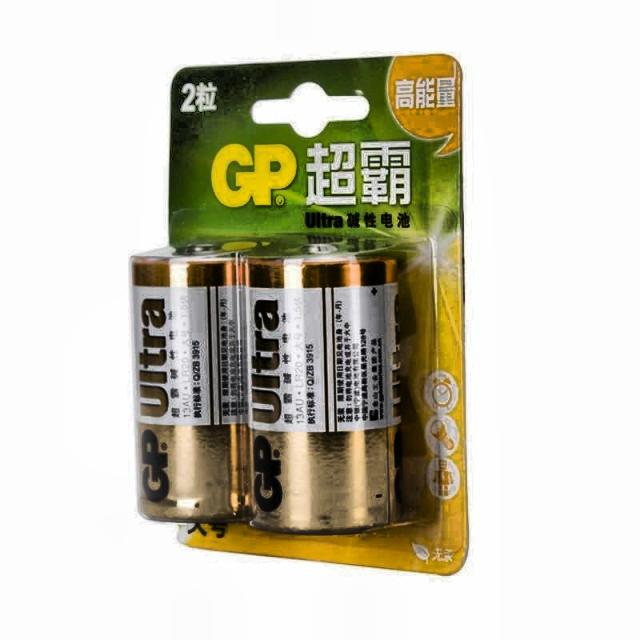Non-Valuable Waste - Batteries: (244, 244, 402, 532), (131, 241, 256, 521)
